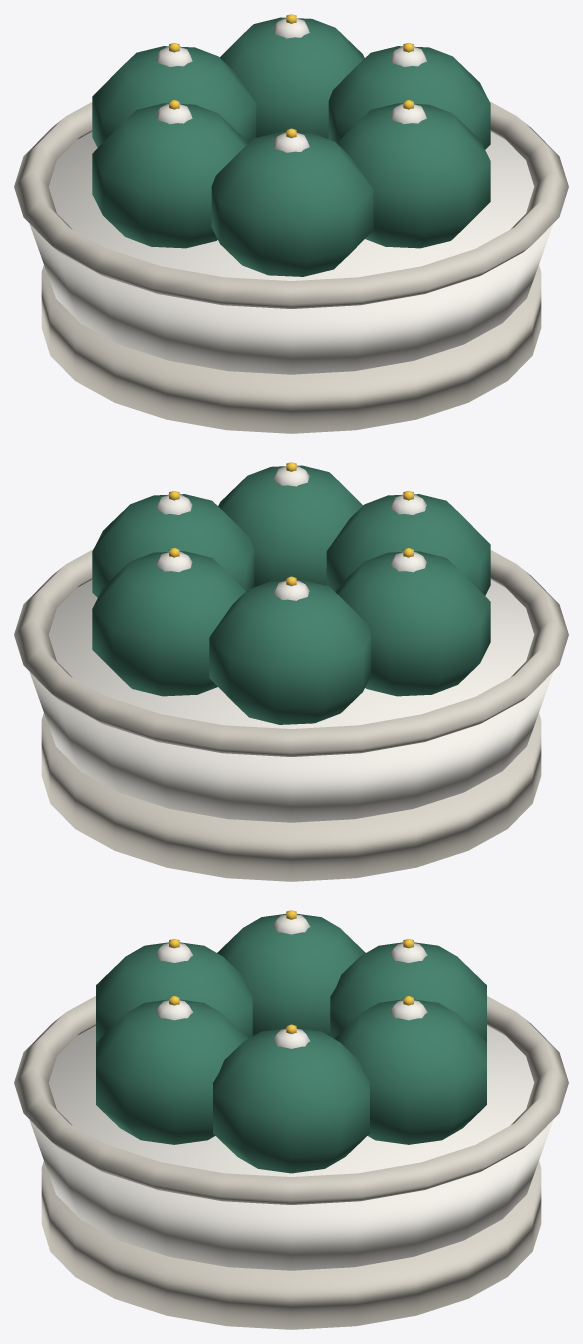
The model's file is marble_planter.glb.
The picture shows the model from 3 angles, top to bottom: view 1: azimuth 30°, elevation 25°; view 2: azimuth 150°, elevation 25°; view 3: azimuth 270°, elevation 25°; orthographic projection.
Size of the model in its own units: 1.6 by 0.8175 by 1.6.
